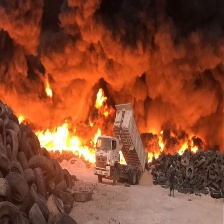fire: (20, 86, 117, 160), (143, 129, 201, 162)
smoke: (3, 3, 224, 131)
